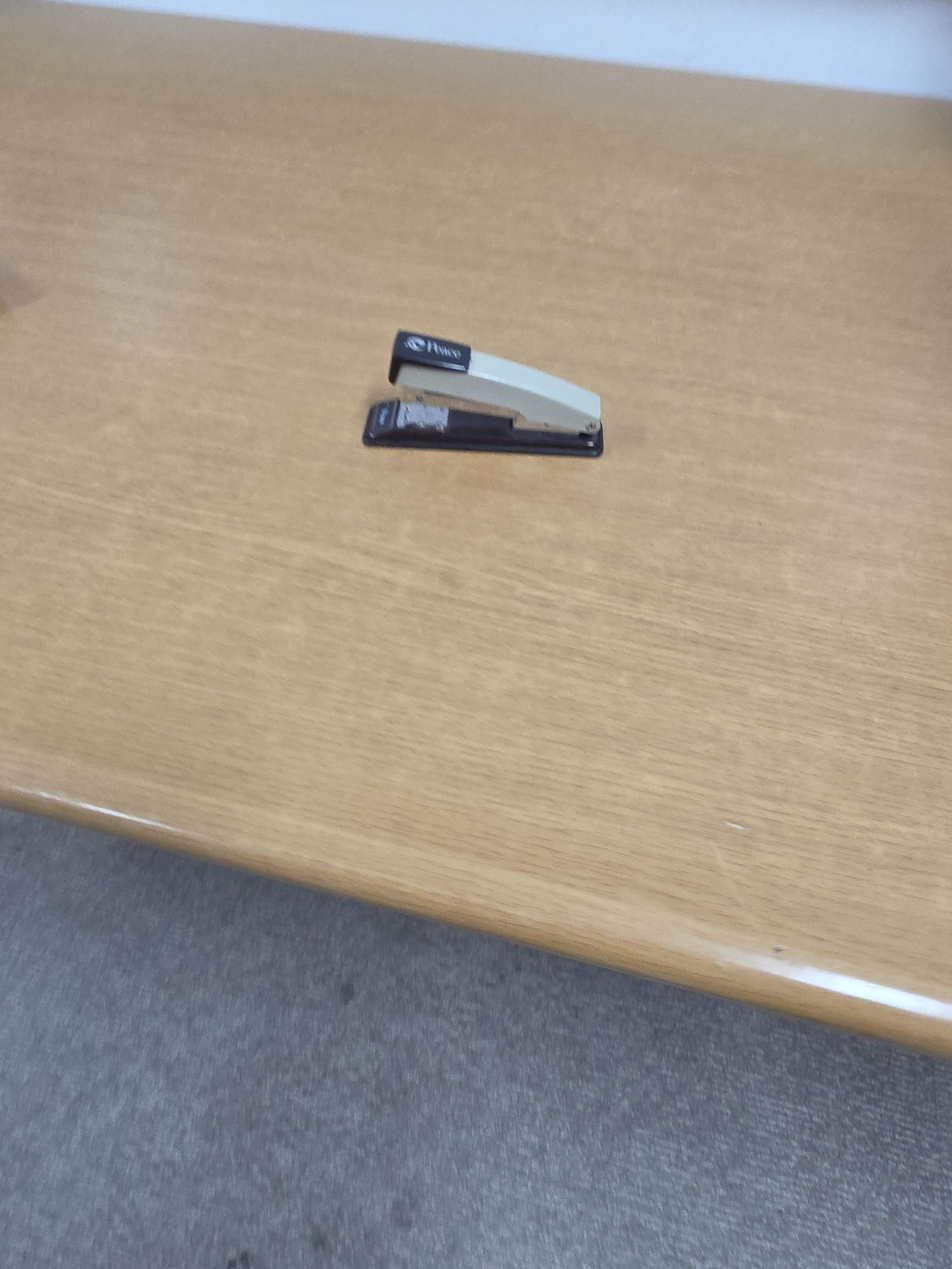stapler: (361, 328, 604, 458)
